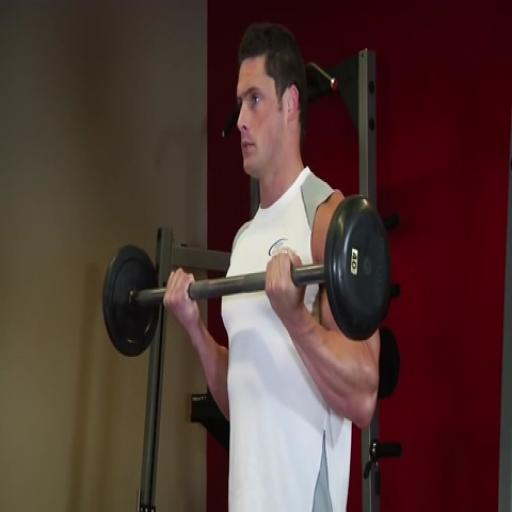exercise: (161, 20, 385, 510)
